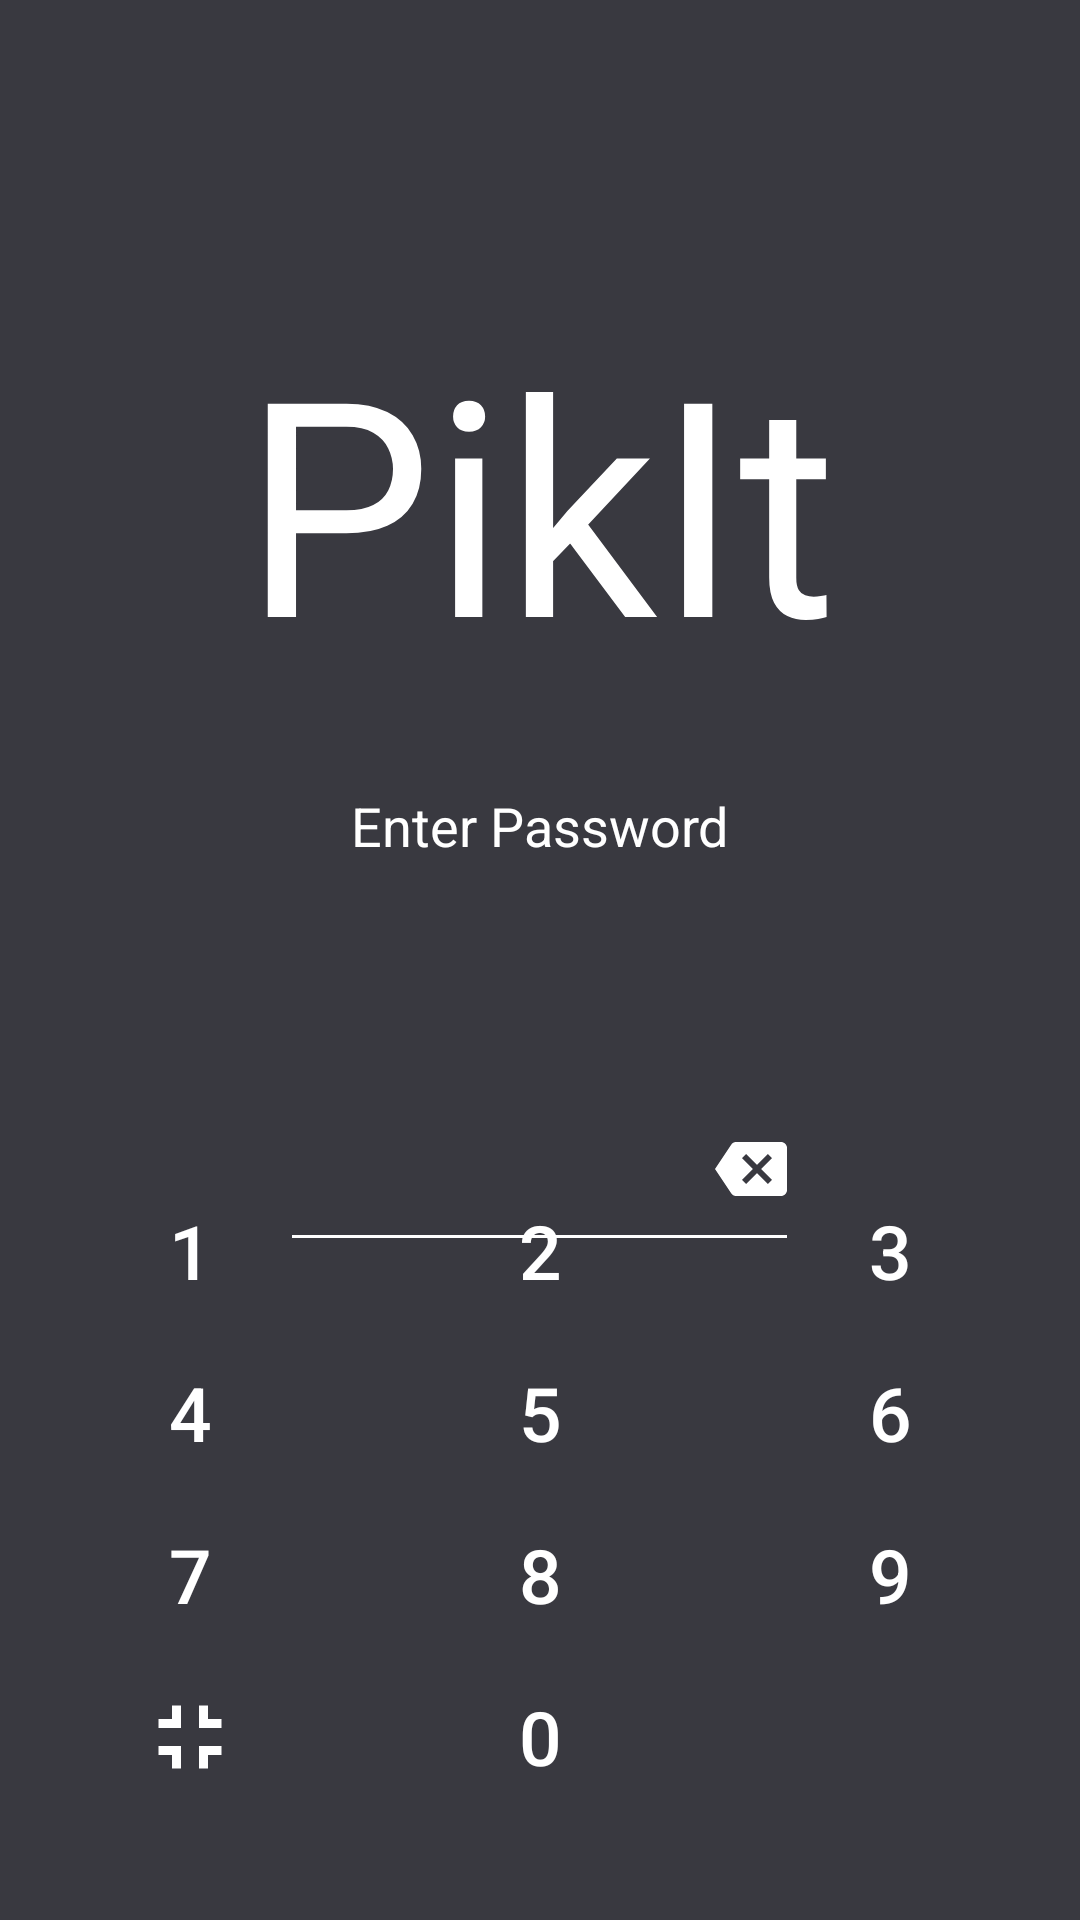

Screen size 1080px x 1920px. Icon name, then its center in pixels as (x,y):
backspace: (751,1169)
fullscreen exit: (190,1737)
